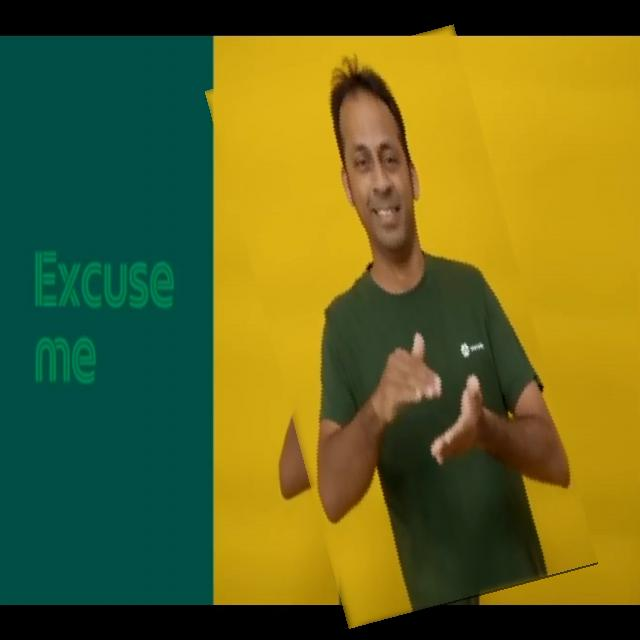ExcuseMe: (239, 36, 565, 619)
